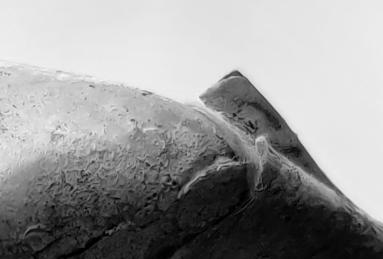crack: (1, 0, 383, 259)
